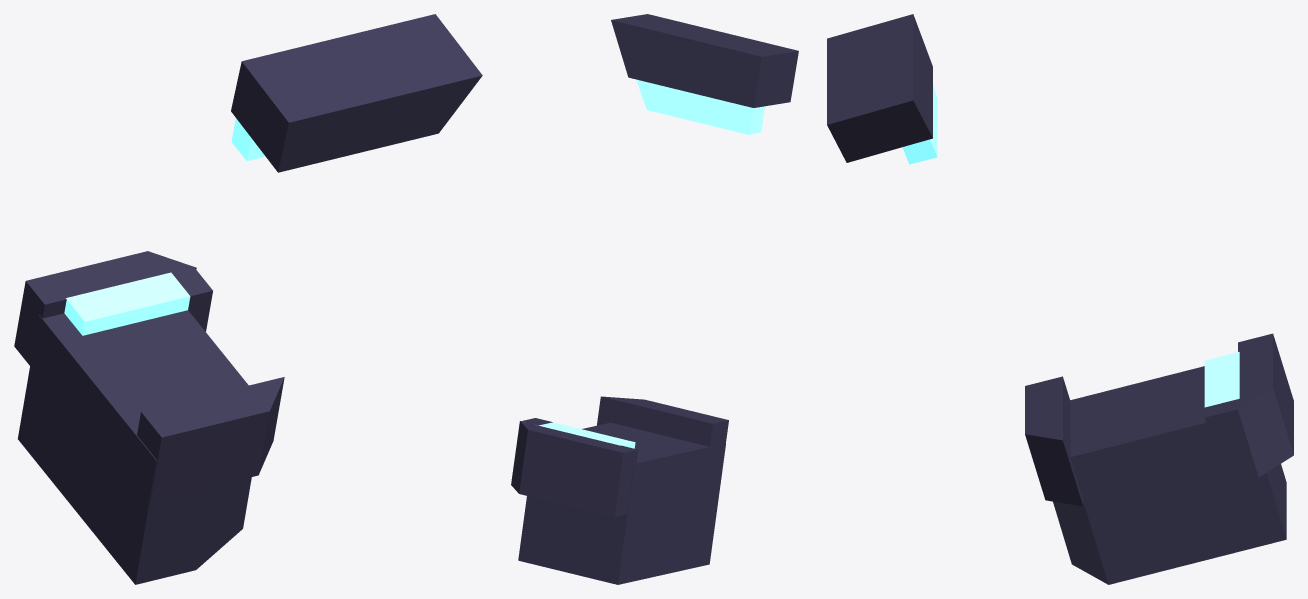
Rendered from Railing_End.fbx.
The picture shows the model from 3 angles, left to right: view 1: azimuth 30°, elevation 25°; view 2: azimuth 150°, elevation 25°; view 3: azimuth 270°, elevation 25°; orthographic projection. The views are drawn at different scales.
Parts seen in each view (by area): view 1: Cube.088, Cube.086, Cube.090, Cube.089, Cube.085, Cube.087; view 2: Cube.088, Cube.086, Cube.085, Cube.090, Cube.087, Cube.089; view 3: Cube.088, Cube.086, Cube.085, Cube.090, Cube.089, Cube.087.
Part boxes in pixels (x1=…): Cube.088: x1=18, y1=310, x2=251, y2=584; Cube.086: x1=231, y1=14, x2=482, y2=172; Cube.090: x1=137, y1=377, x2=284, y2=501; Cube.089: x1=64, y1=267, x2=212, y2=335; Cube.085: x1=14, y1=251, x2=196, y2=365; Cube.087: x1=231, y1=118, x2=265, y2=160; Cube.088: x1=518, y1=422, x2=725, y2=584; Cube.086: x1=611, y1=14, x2=798, y2=107; Cube.085: x1=511, y1=421, x2=638, y2=516; Cube.090: x1=597, y1=396, x2=728, y2=446; Cube.087: x1=636, y1=79, x2=764, y2=134; Cube.089: x1=521, y1=418, x2=635, y2=448; Cube.088: x1=1053, y1=366, x2=1286, y2=584; Cube.086: x1=827, y1=14, x2=932, y2=162; Cube.085: x1=1238, y1=333, x2=1293, y2=477; Cube.090: x1=1025, y1=376, x2=1083, y2=506; Cube.089: x1=1204, y1=352, x2=1258, y2=485; Cube.087: x1=902, y1=85, x2=937, y2=164.
Bounding box in the file's own units: 0.6975 × 1.82 × 1.45.
